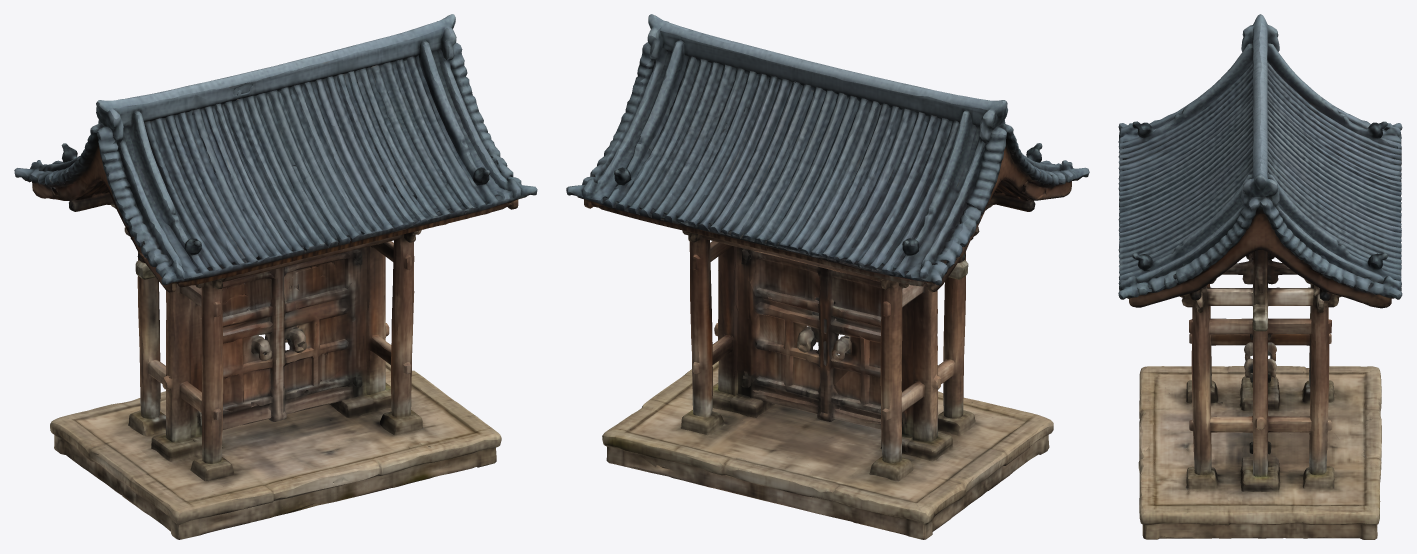
Rendered from ARCH-016-platform-split.glb.
3 views of the same model, side by side, from view 1: azimuth 30°, elevation 25°; view 2: azimuth 150°, elevation 25°; view 3: azimuth 270°, elevation 25° (orthographic). The views are drawn at different scales.
Visible parts, largest first — view 1: gate-building-fixed, gate-floor-platform, gate-door-right-visual, gate-door-left-visual; view 2: gate-building-fixed, gate-floor-platform, gate-door-right-visual, gate-door-left-visual; view 3: gate-building-fixed, gate-floor-platform, gate-door-left-visual, gate-door-right-visual.
Boxes of the visible parts, x1,y1,x2,y2 form: gate-building-fixed: [14, 14, 537, 515]; gate-floor-platform: [50, 361, 501, 539]; gate-door-right-visual: [276, 247, 366, 420]; gate-door-left-visual: [190, 268, 283, 441]; gate-building-fixed: [566, 14, 1089, 511]; gate-floor-platform: [602, 361, 1053, 539]; gate-door-right-visual: [723, 246, 827, 415]; gate-door-left-visual: [821, 267, 913, 442]; gate-building-fixed: [1118, 14, 1402, 495]; gate-floor-platform: [1138, 366, 1381, 539]; gate-door-left-visual: [1244, 259, 1278, 399]; gate-door-right-visual: [1244, 334, 1276, 454].
Bounding box in the file's own units: 5.42 × 5.5 × 3.8.
Materials: 1 (1 with a texture image).
